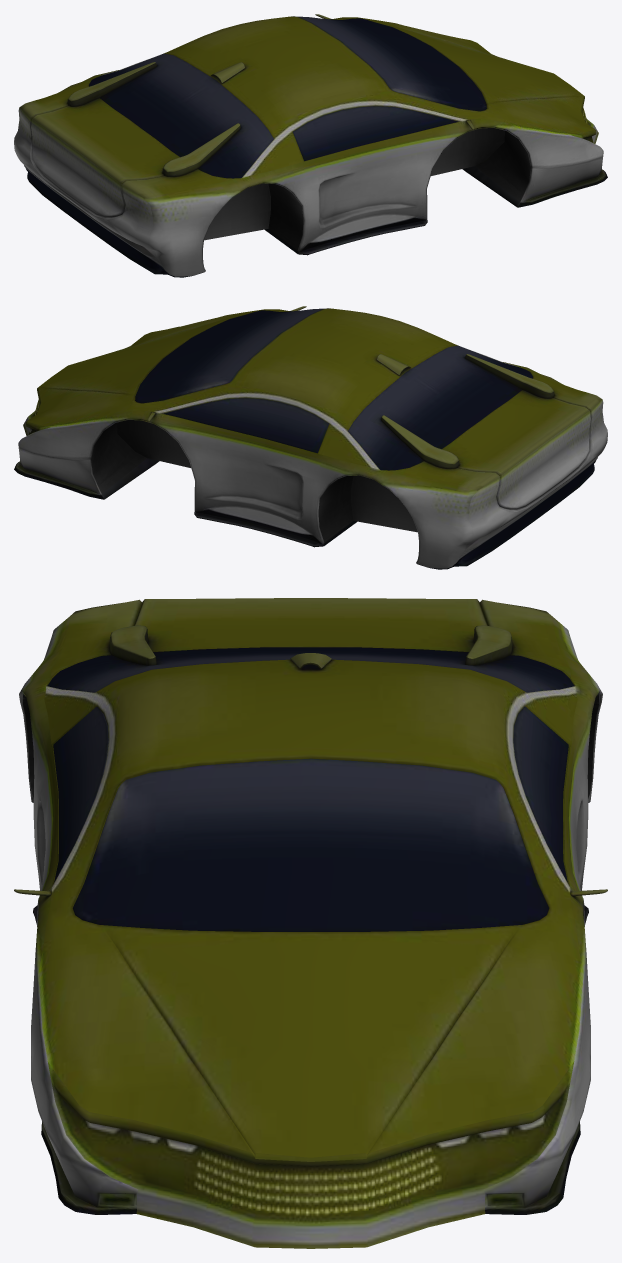
Rendered from f1_car_mercedes_09.dae.
The picture shows the model from 3 angles, top to bottom: view 1: azimuth 30°, elevation 25°; view 2: azimuth 150°, elevation 25°; view 3: azimuth 270°, elevation 25°; orthographic projection. The views are drawn at different scales.
Visible parts, largest first — view 1: car_body; view 2: car_body; view 3: car_body.
Part boxes in pixels (x1=…): car_body: x1=14, y1=14, x2=607, y2=277; car_body: x1=14, y1=306, x2=607, y2=569; car_body: x1=14, y1=598, x2=607, y2=1248.
Bounding box in the file's own units: 0.3658 × 0.1927 × 0.0974.
Materials: 1 (1 with a texture image).
